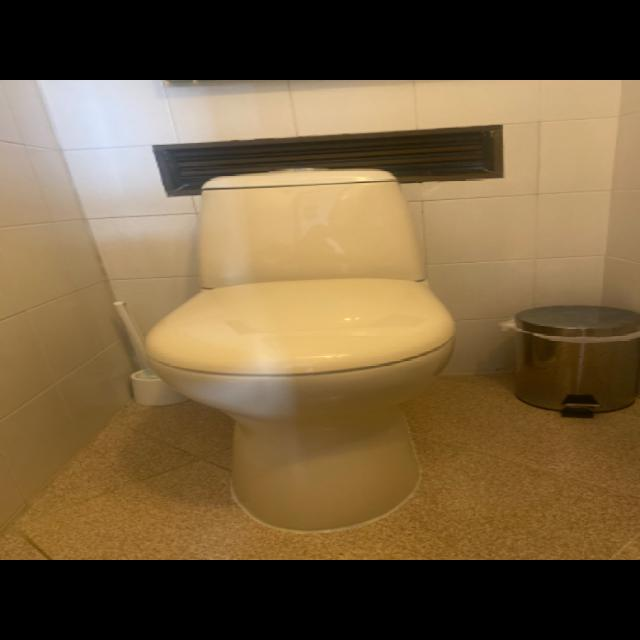toilet: (133, 162, 460, 534)
